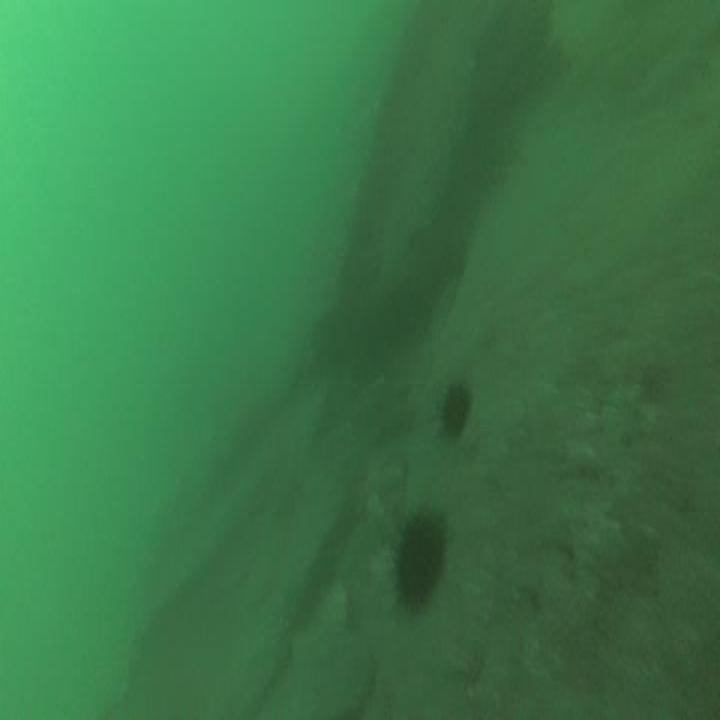echinus: (396, 518, 443, 606), (441, 382, 468, 432)
